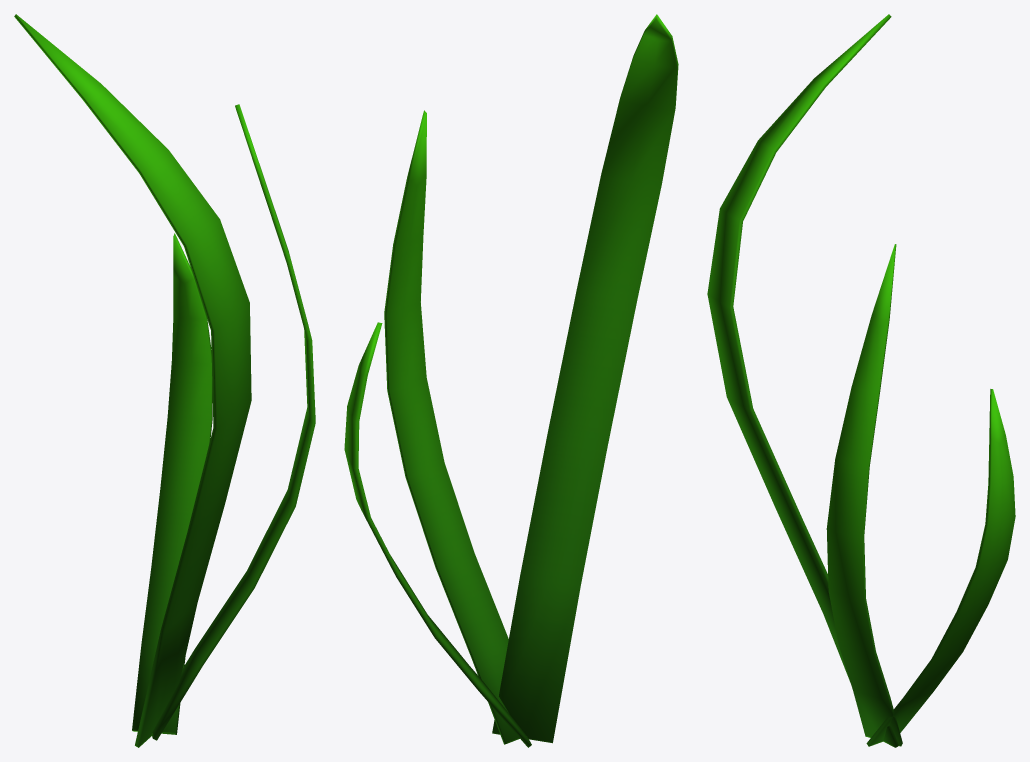
File: hierba_2.fbx
The picture shows the model from 3 angles, left to right: view 1: azimuth 30°, elevation 25°; view 2: azimuth 150°, elevation 25°; view 3: azimuth 270°, elevation 25°; orthographic projection. The views are drawn at different scales.
Parts seen in each view (by area): view 1: Cesped_nuevo_2; view 2: Cesped_nuevo_2; view 3: Cesped_nuevo_2.
Part boxes in pixels (bbox=[...]): Cesped_nuevo_2: bbox=[14, 14, 315, 747]; Cesped_nuevo_2: bbox=[344, 14, 678, 747]; Cesped_nuevo_2: bbox=[707, 14, 1015, 747].
Bounding box in the file's own units: 19.01 × 48.65 × 20.21.
1 material, 1 textured.
